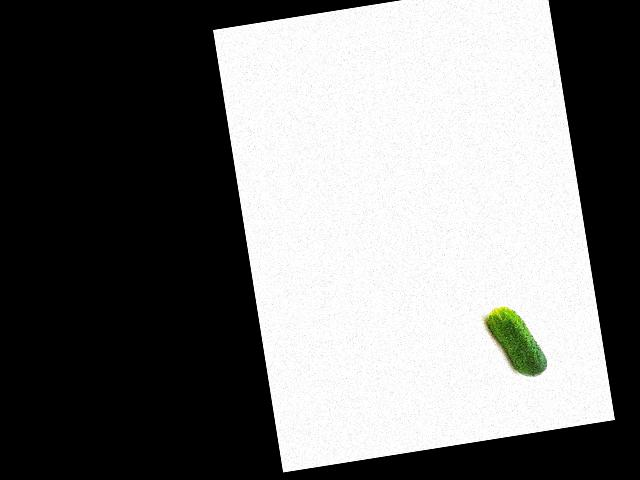cucumber: (485, 300, 548, 382)
